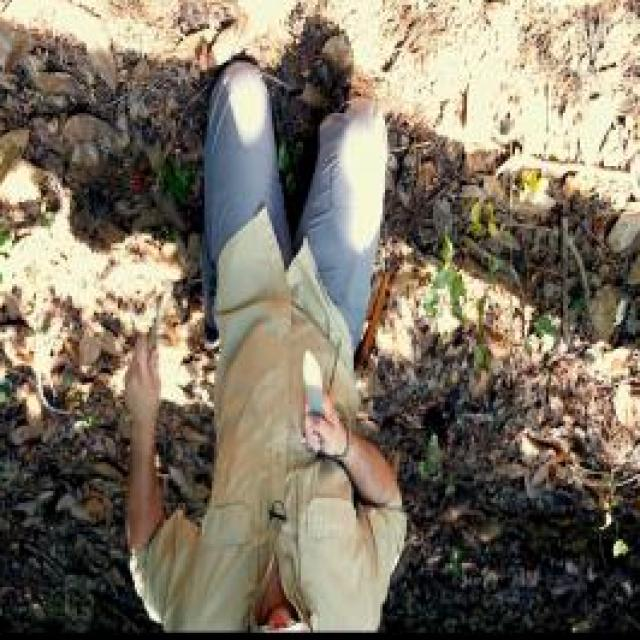knife: (300, 342, 344, 464)
